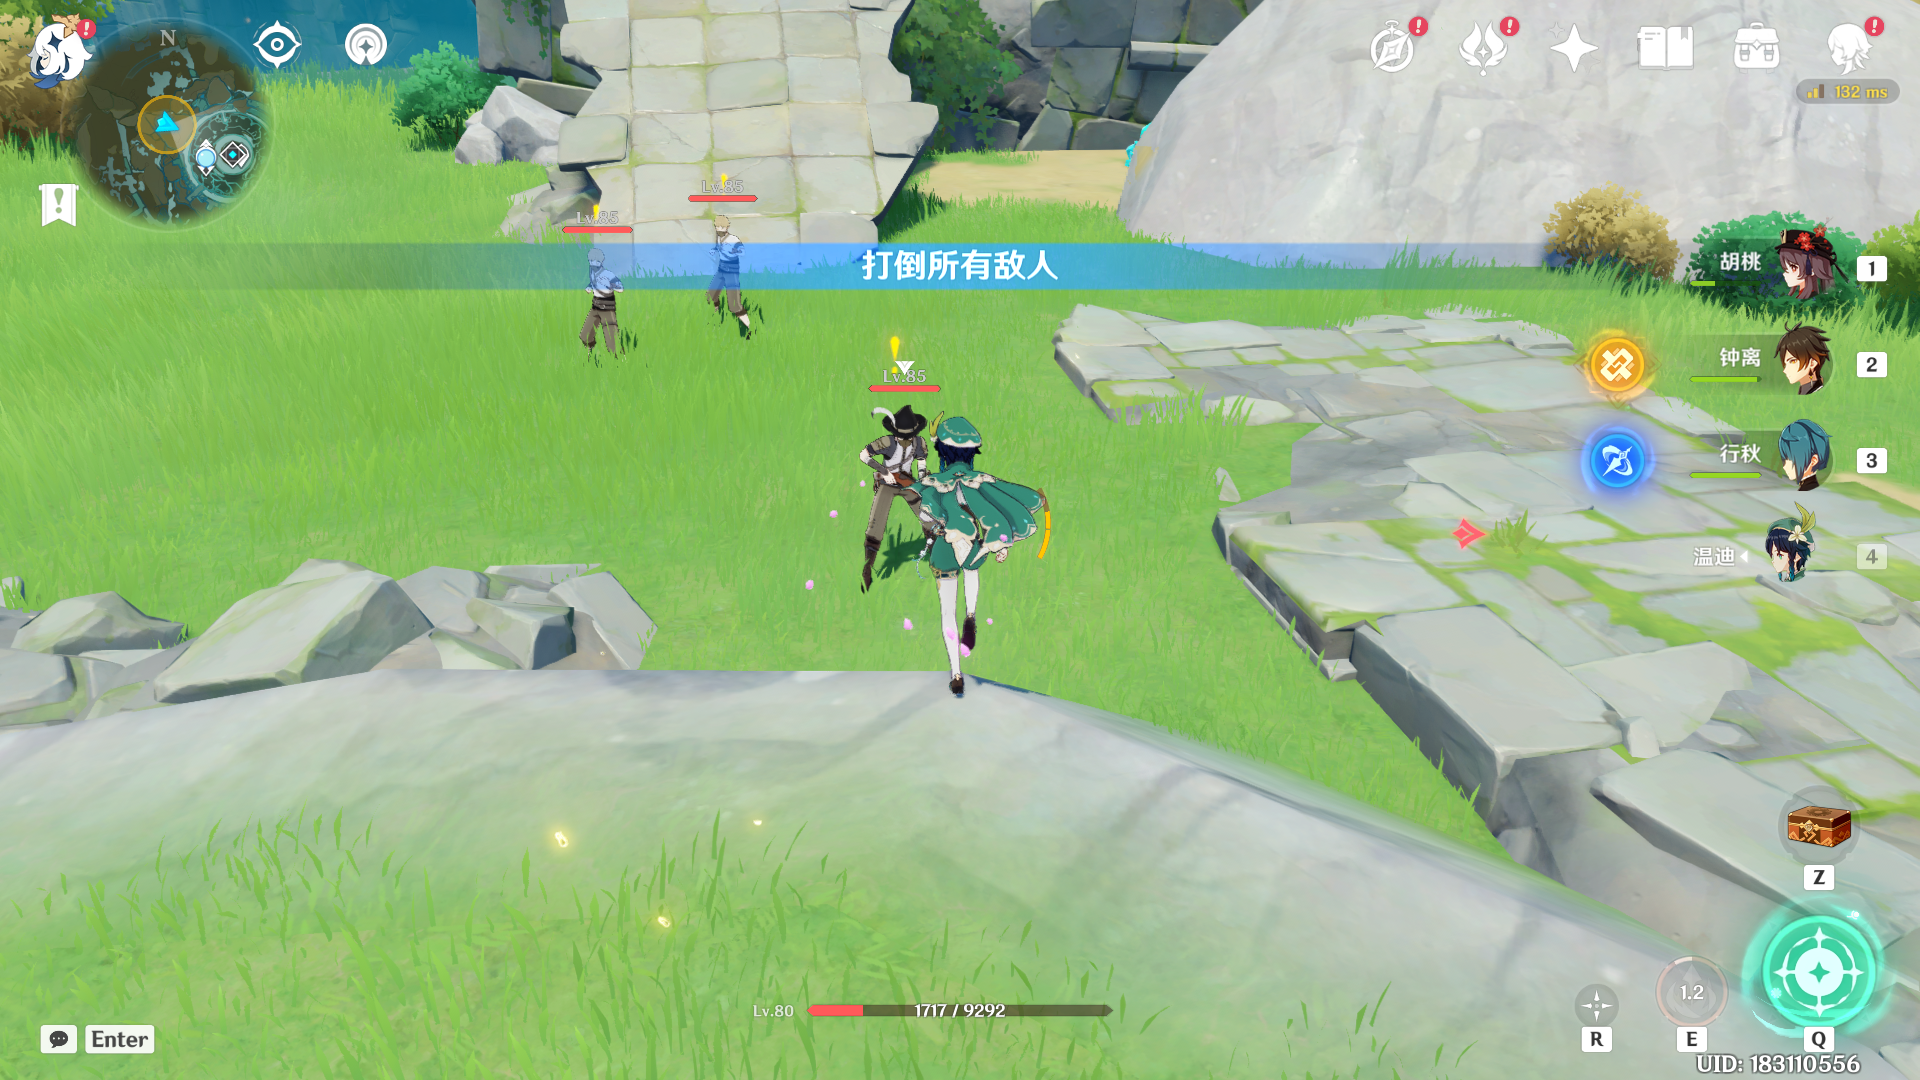character: (887, 400, 1095, 724)
robber: (823, 382, 980, 599), (675, 182, 789, 359), (550, 244, 666, 377)
